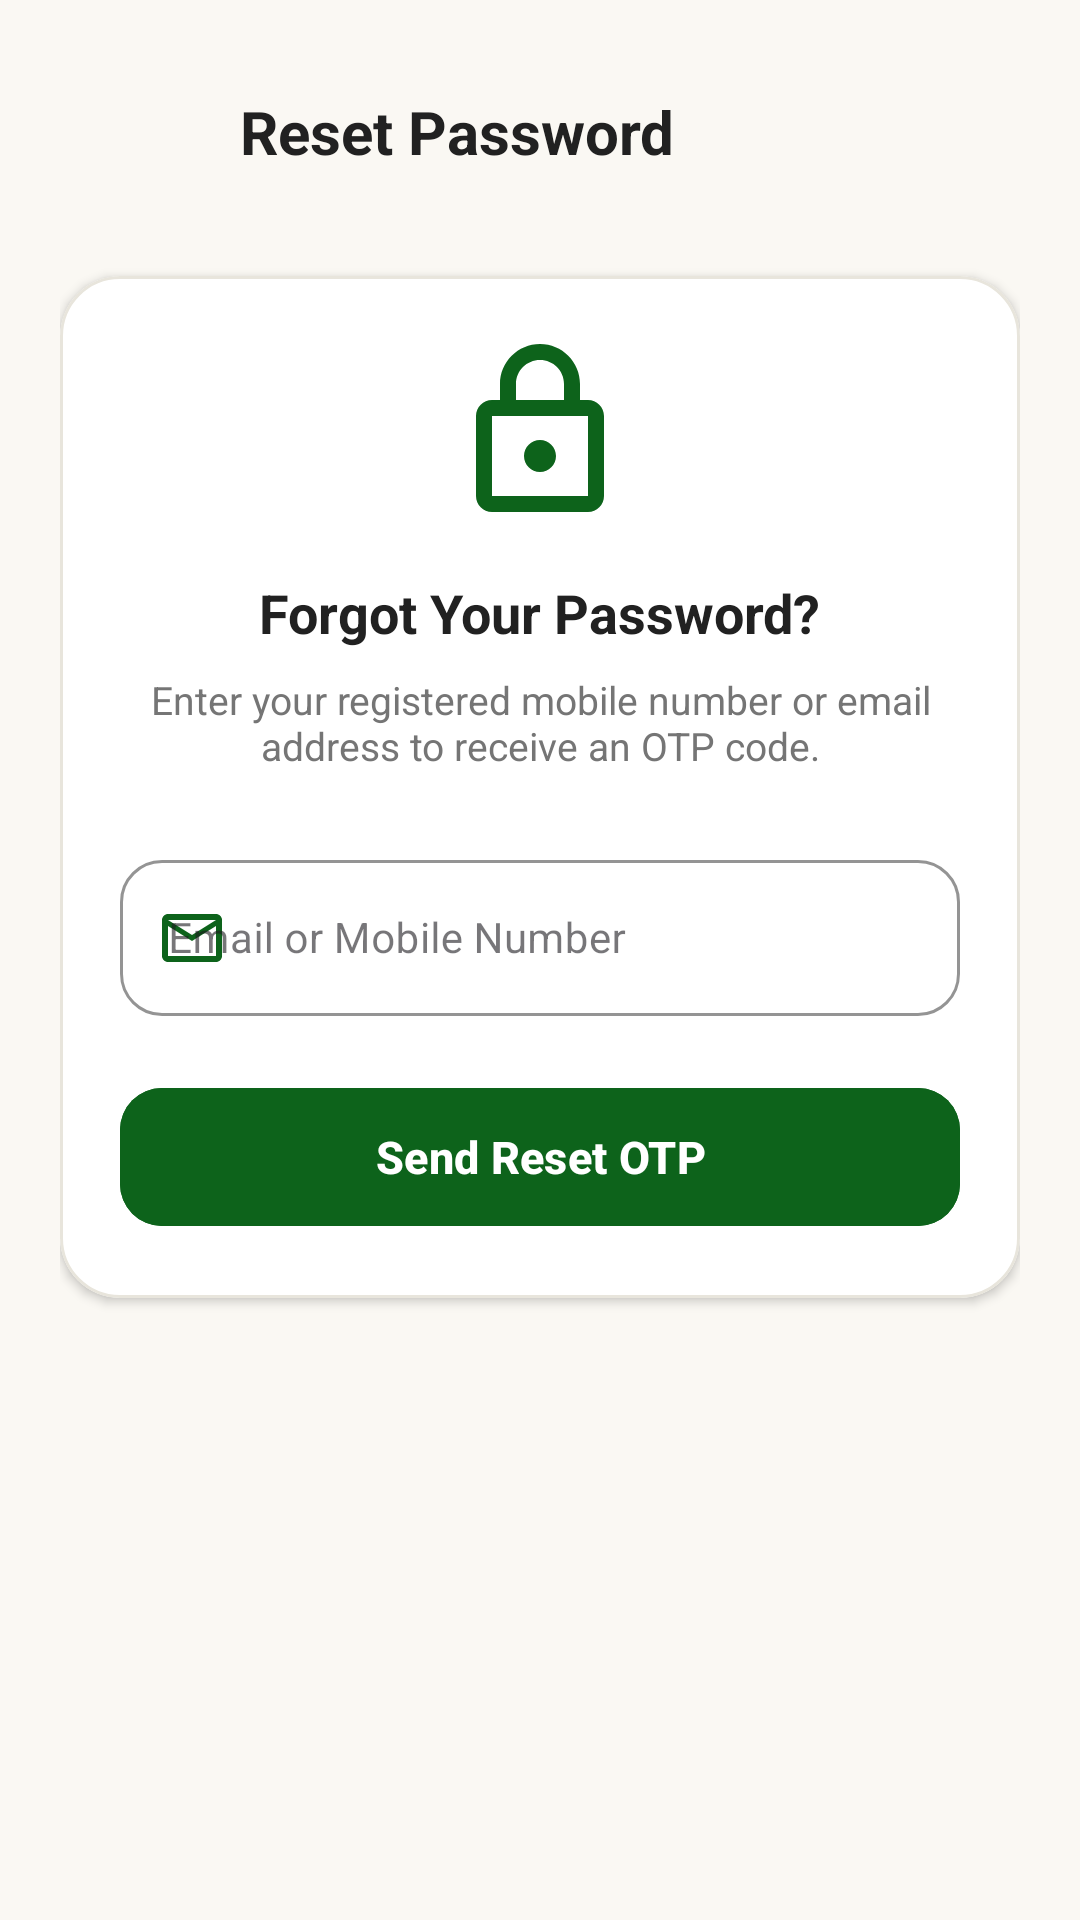

Screen size 1080px×1920px. Icon name, then its center in pixels as (x,y):
lock: (540,428)
